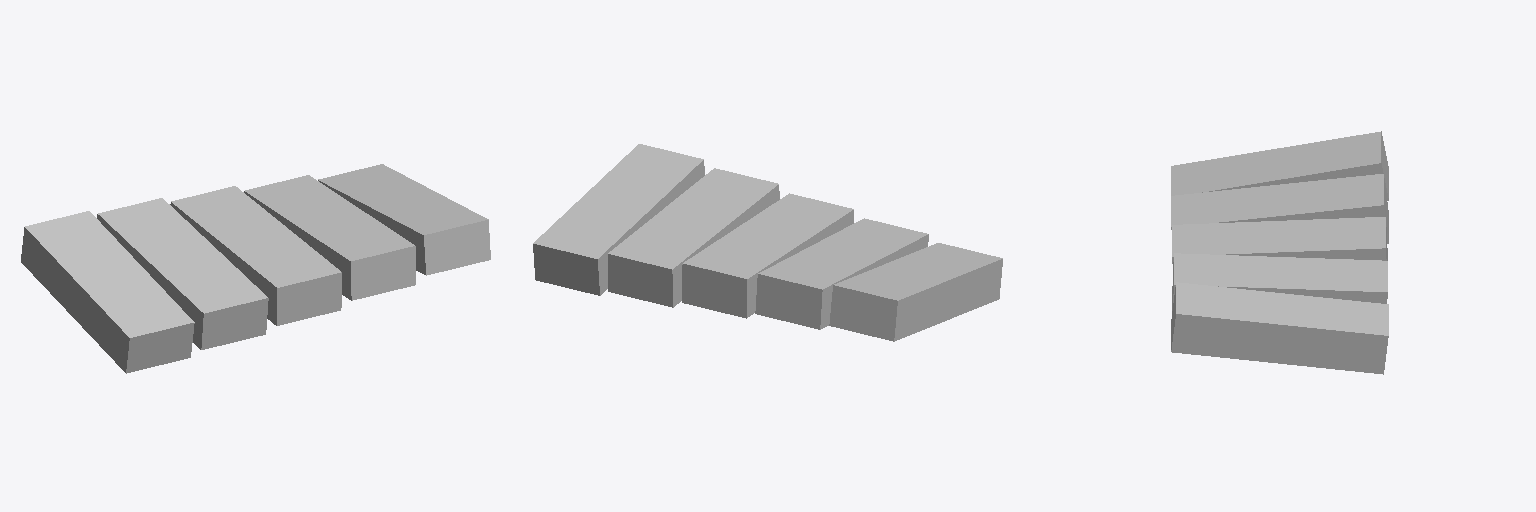
Rendered from road4.obj.
3 views of the same model, side by side, from view 1: azimuth 30°, elevation 25°; view 2: azimuth 150°, elevation 25°; view 3: azimuth 270°, elevation 25° (orthographic).
Parts seen in each view (by area): view 1: example_road:example_road:pCube16; view 2: example_road:example_road:pCube16; view 3: example_road:example_road:pCube16.
Part boxes in pixels (x1,y1,x2,y2): example_road:example_road:pCube16: (21, 164, 490, 373); example_road:example_road:pCube16: (533, 144, 1002, 341); example_road:example_road:pCube16: (1171, 131, 1388, 374).
Bounding box in the file's own units: 19.5 × 3.75 × 10.2.